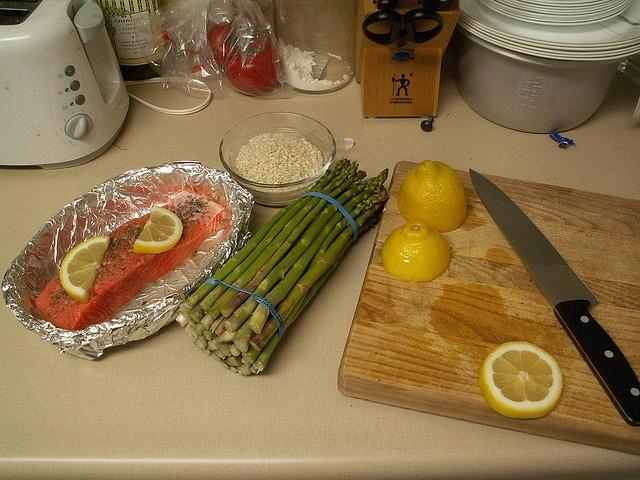asparagus: (208, 160, 359, 320), (249, 168, 389, 334), (200, 157, 348, 312), (220, 170, 366, 318), (249, 205, 381, 352), (218, 342, 234, 357), (203, 330, 216, 340)
lemon: (477, 340, 562, 418), (398, 160, 467, 232), (380, 220, 450, 282), (60, 236, 111, 304), (134, 206, 182, 254)
tomato: (225, 38, 278, 96), (208, 21, 245, 68)
